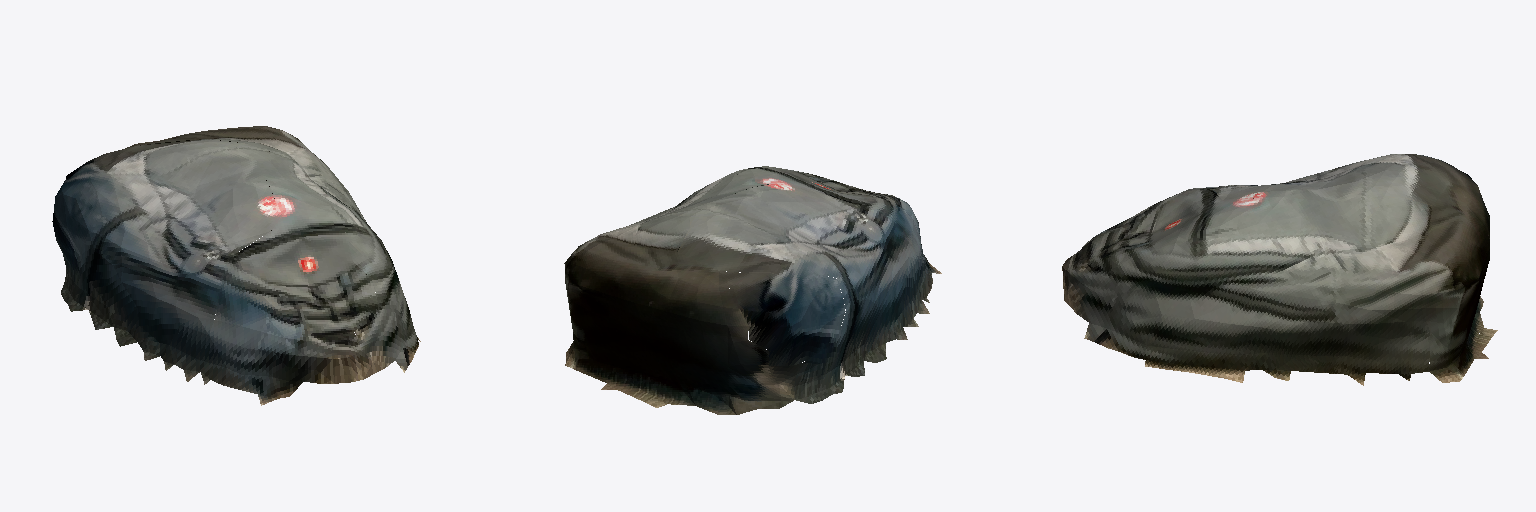
3 renders of one model, left to right at view 1: azimuth 30°, elevation 25°; view 2: azimuth 150°, elevation 25°; view 3: azimuth 270°, elevation 25°, orthographic.
Visible parts, largest first — view 1: poly; view 2: poly; view 3: poly.
Part boxes in pixels (bbox=[...]): poly: bbox=[52, 126, 420, 405]; poly: bbox=[564, 166, 941, 414]; poly: bbox=[1062, 154, 1497, 385].
Bounding box in the file's own units: 0.3768 × 0.2028 × 0.5462.
Materials: 1 (1 with a texture image).